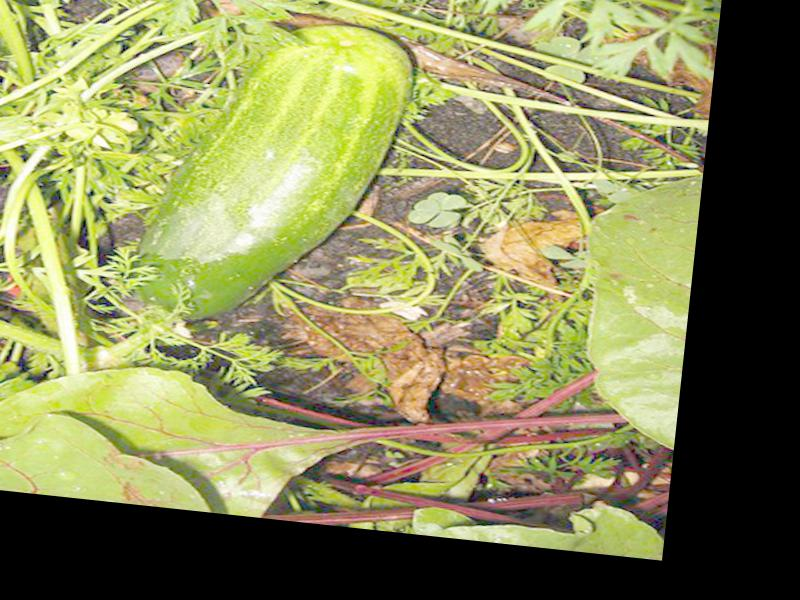Cucumber: (119, 9, 418, 341)
